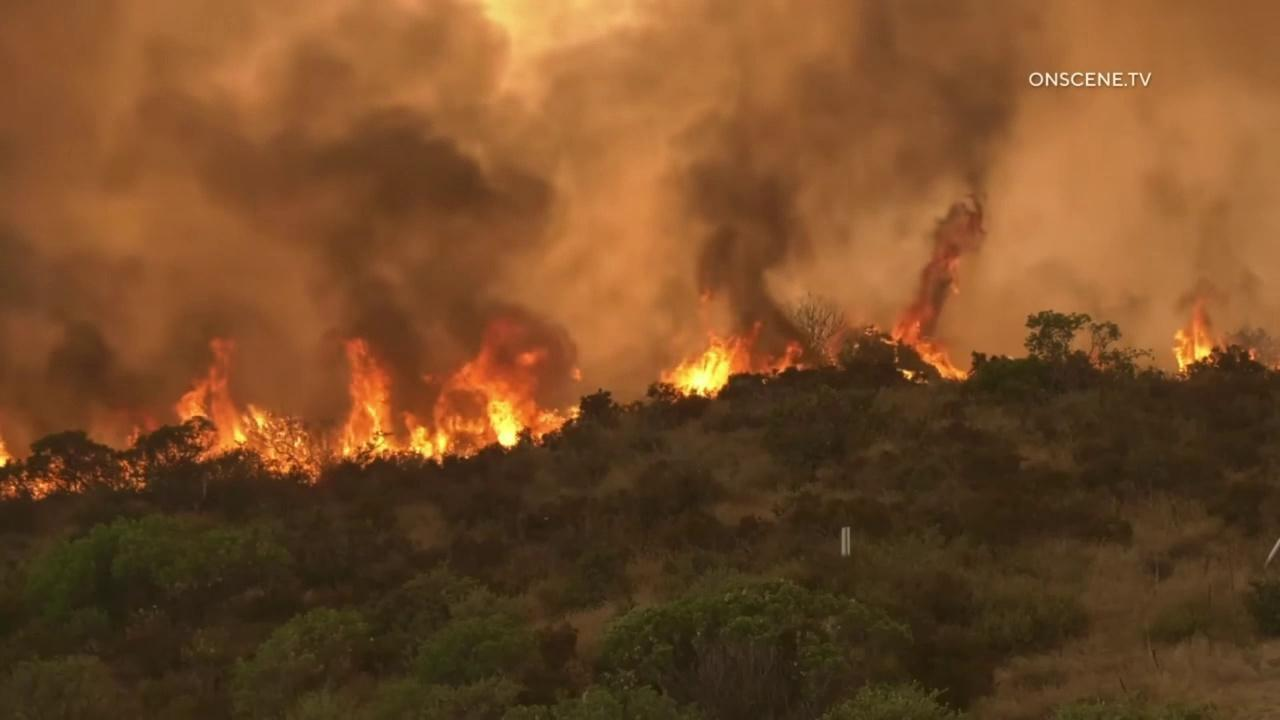fire: (94, 314, 583, 494), (657, 320, 818, 406), (880, 319, 969, 385), (0, 438, 91, 502), (1172, 302, 1215, 382), (824, 324, 849, 376), (1248, 347, 1257, 362), (1271, 360, 1280, 373)
smoke: (0, 0, 1280, 464)
